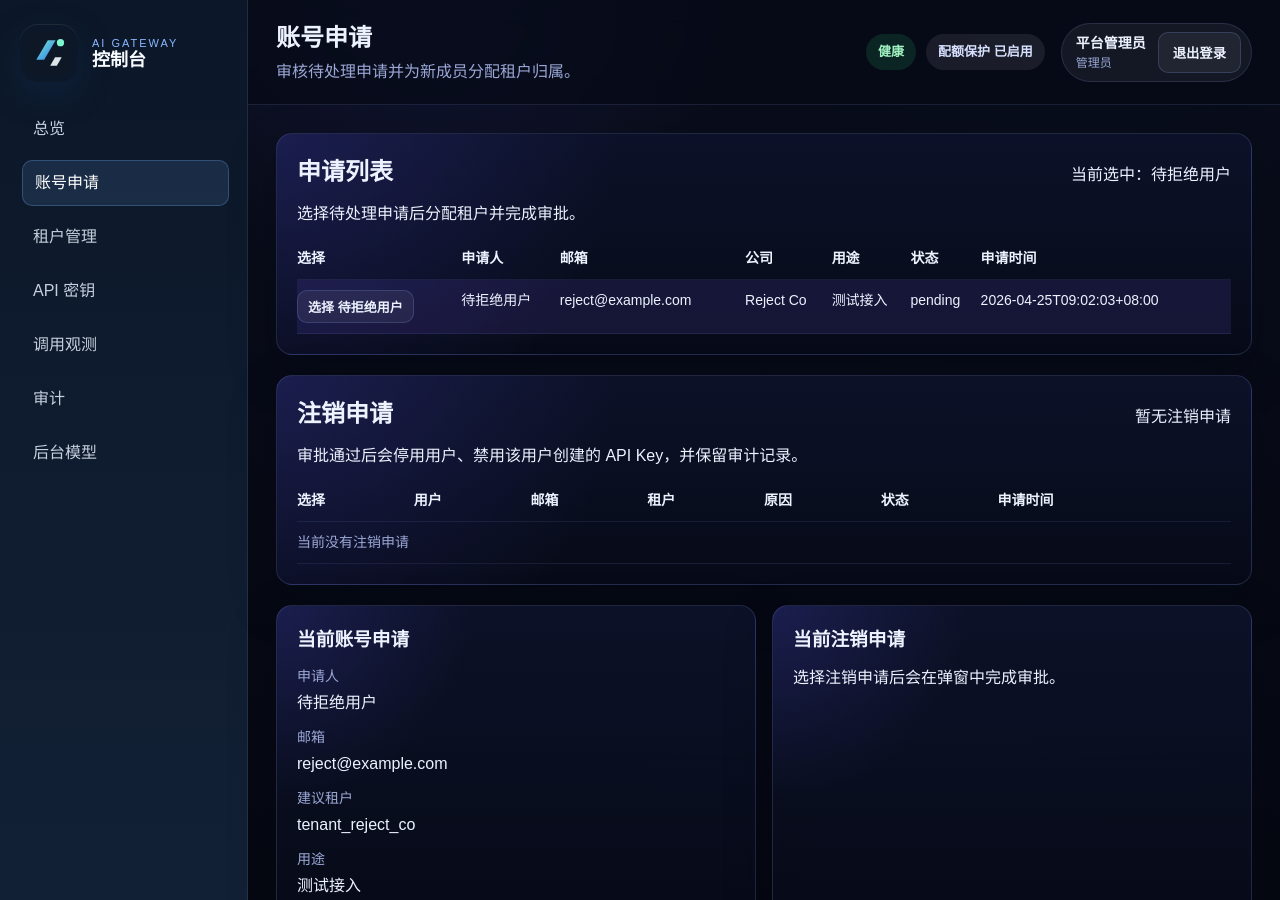
Test case: 控制台路由 › 账号申请页支持拒绝审批
Step 1. Click the button "选择 待拒绝用户" → (355, 306), box [297,290,414,323]
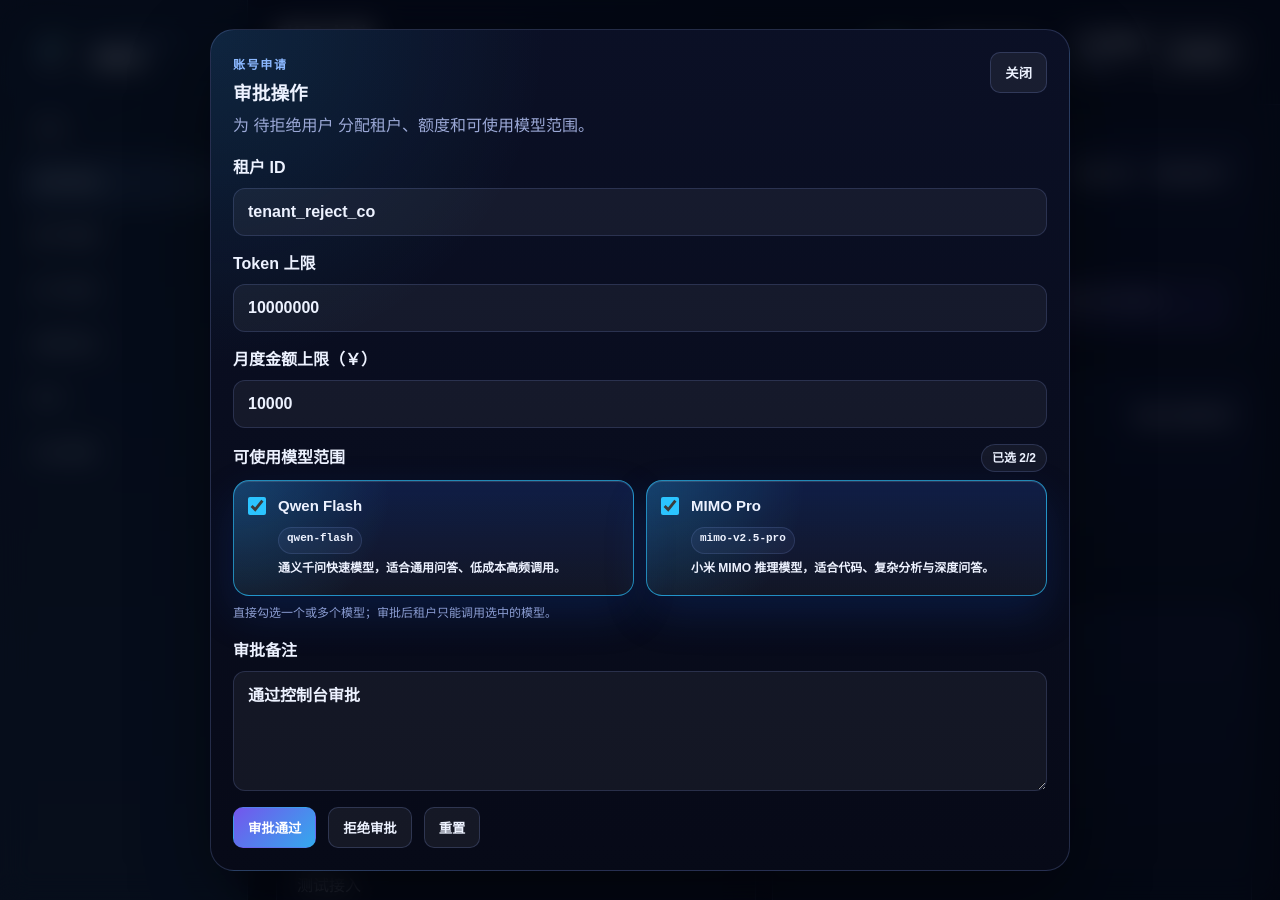
Step 2. Click the button "拒绝审批" → (370, 827), box [328,807,412,848]
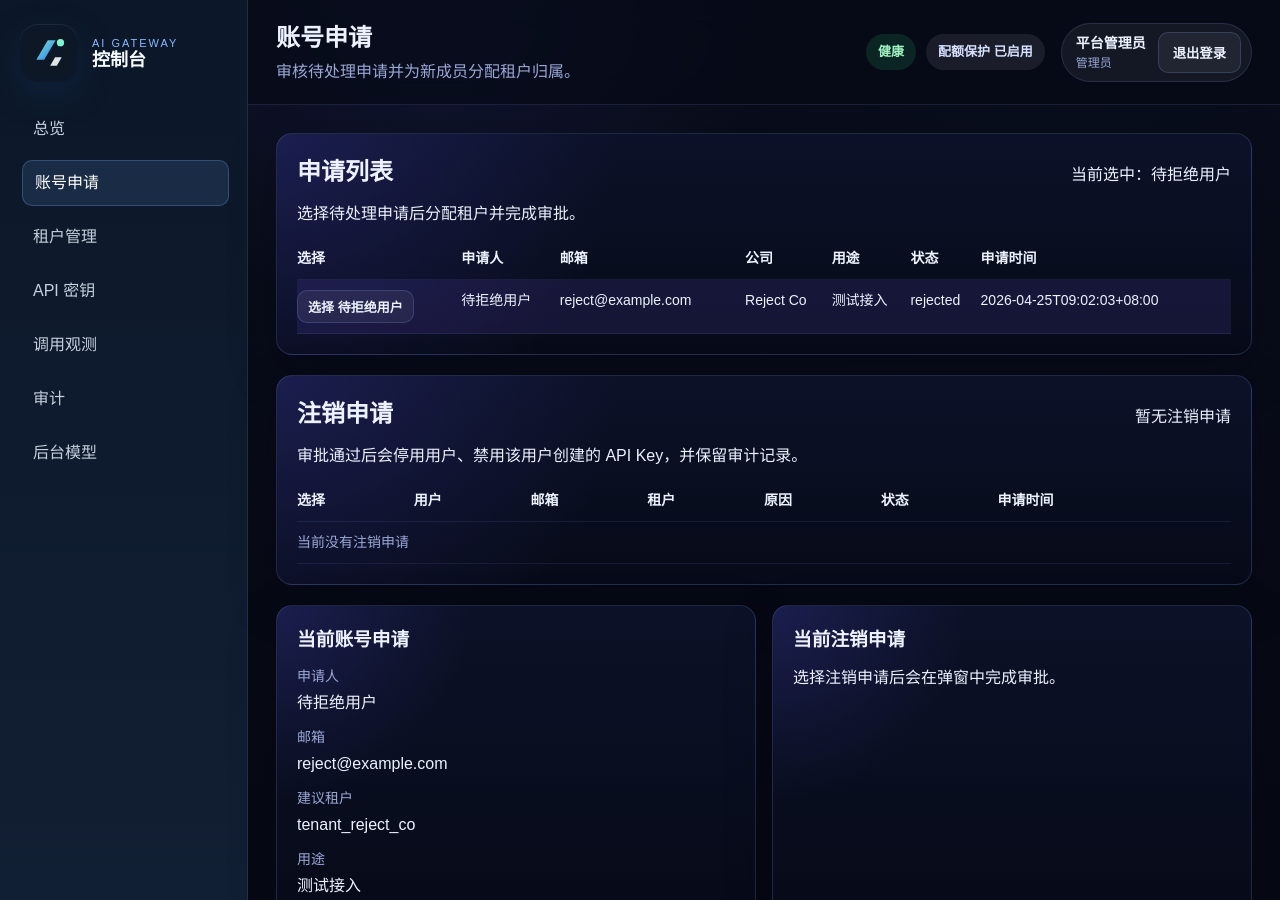
Expected: the text "rejected" is shown, [910,280,981,334]
